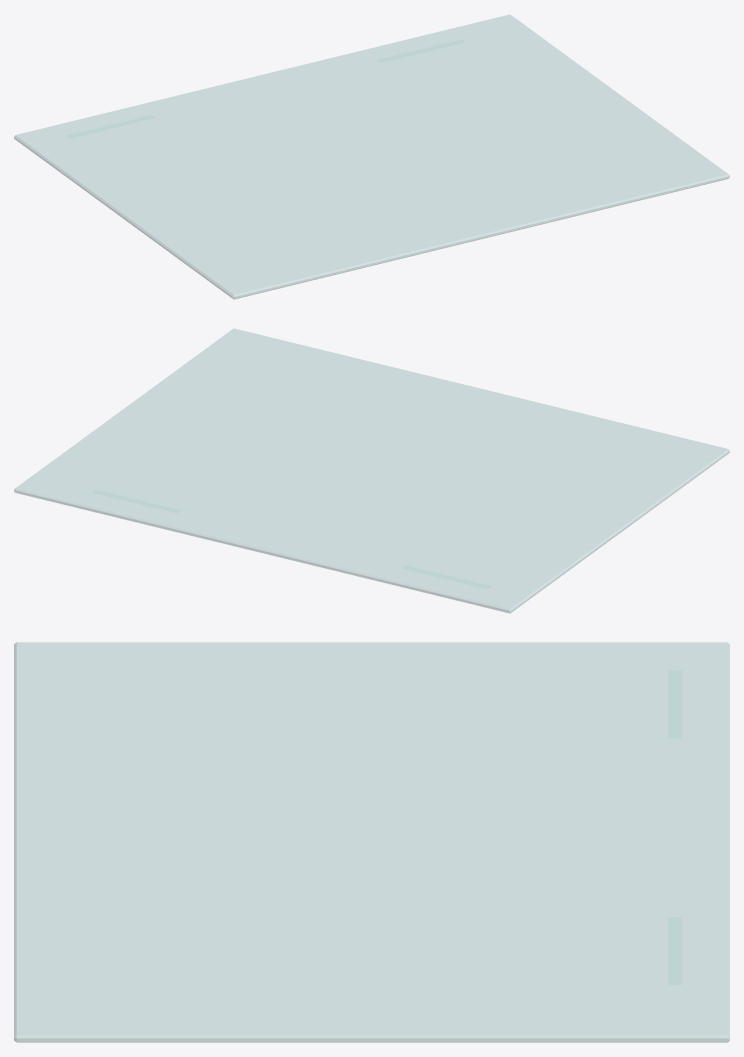
The model's file is glass_sheet.glb.
The picture shows the model from 3 angles, top to bottom: view 1: azimuth 30°, elevation 25°; view 2: azimuth 150°, elevation 25°; view 3: azimuth 270°, elevation 25°; orthographic projection. The views are drawn at different scales.
Parts seen in each view (by area): view 1: block_stock material; view 2: block_stock material; view 3: block_stock material, block_edge glint (×2).
Part boxes in pixels (x1,y1,x2,y2): block_stock material: (14,14,729,299); block_stock material: (14,328,729,613); block_stock material: (14,642,729,1042); block_edge glint (×2): (668,670,682,984).
Size of the model in its own units: 1.22 by 0.0122 by 0.9344.
1 material, 1 textured.
